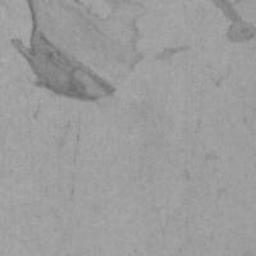Water spot: (3, 0, 157, 109), (215, 0, 256, 47)
